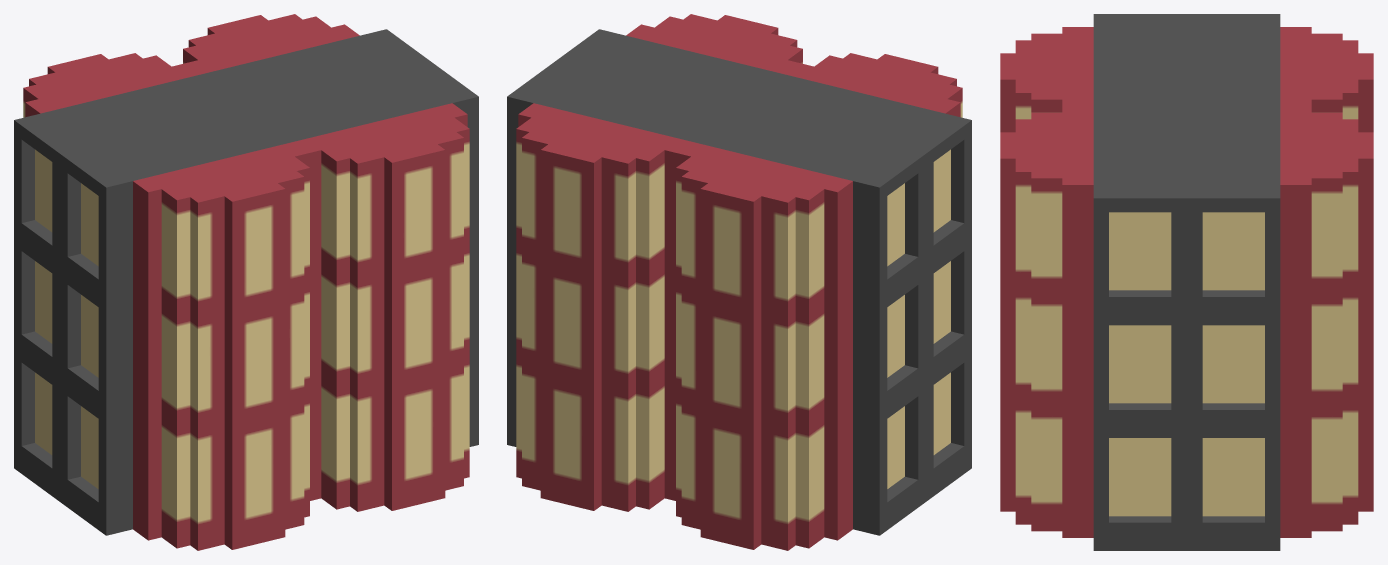
The model's file is sixthModel(black).fbx.
The picture shows the model from 3 angles, left to right: view 1: azimuth 30°, elevation 25°; view 2: azimuth 150°, elevation 25°; view 3: azimuth 270°, elevation 25°; orthographic projection.
Visible parts, largest first — view 1: Torus; view 2: Torus; view 3: Torus.
Boxes of the visible parts, x1,y1,x2,y2 form: Torus: (14,14,478,550); Torus: (507,14,971,550); Torus: (1000,14,1373,550).
Size of the model in its own units: 28 by 25 by 24.
Materials: 1 (1 with a texture image).
